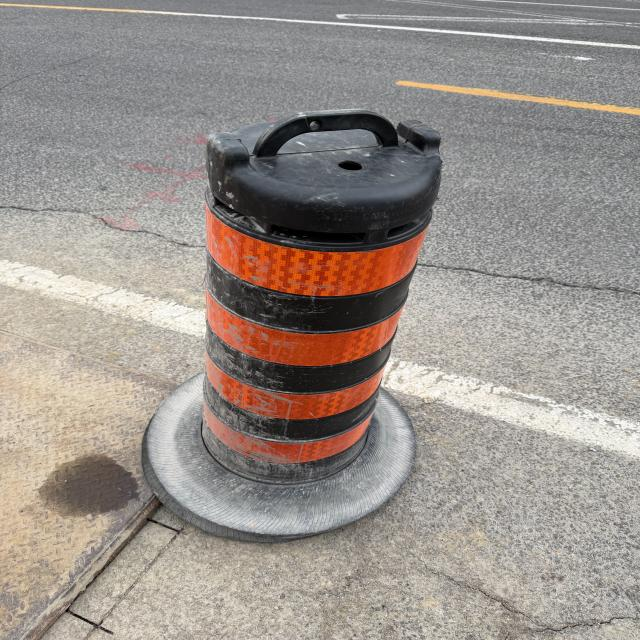Teraffic Barrel: (143, 110, 441, 540)
